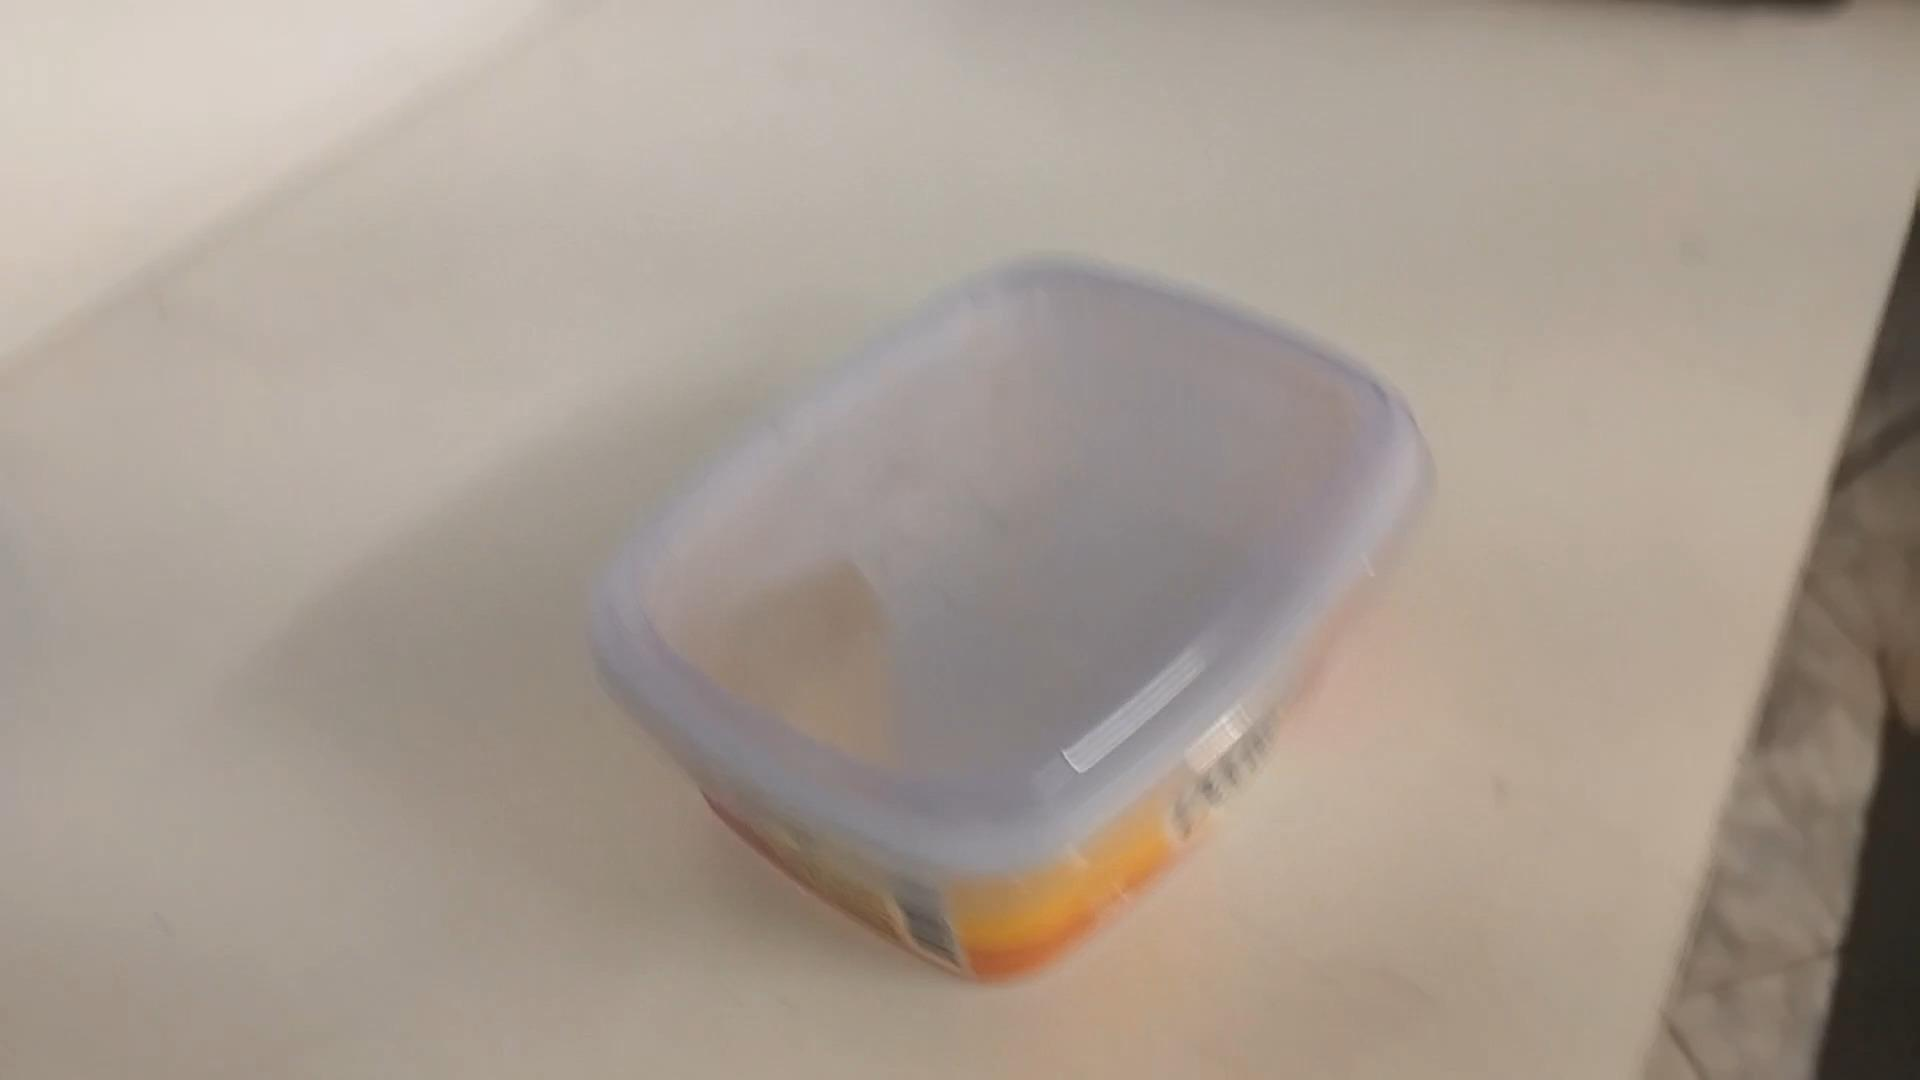butter: (582, 257, 1428, 988)
